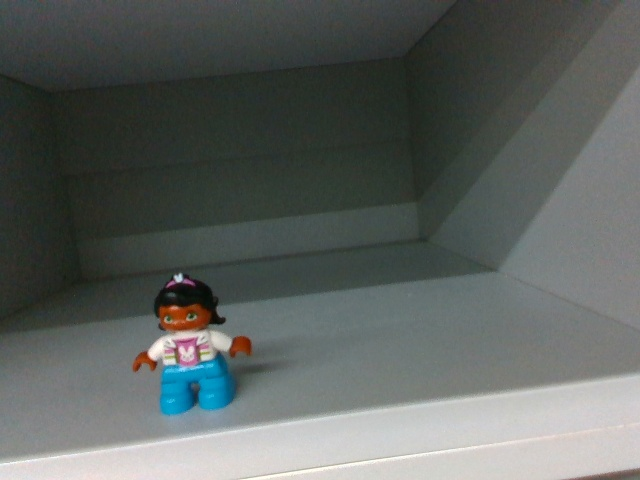people: (132, 271, 257, 421)
